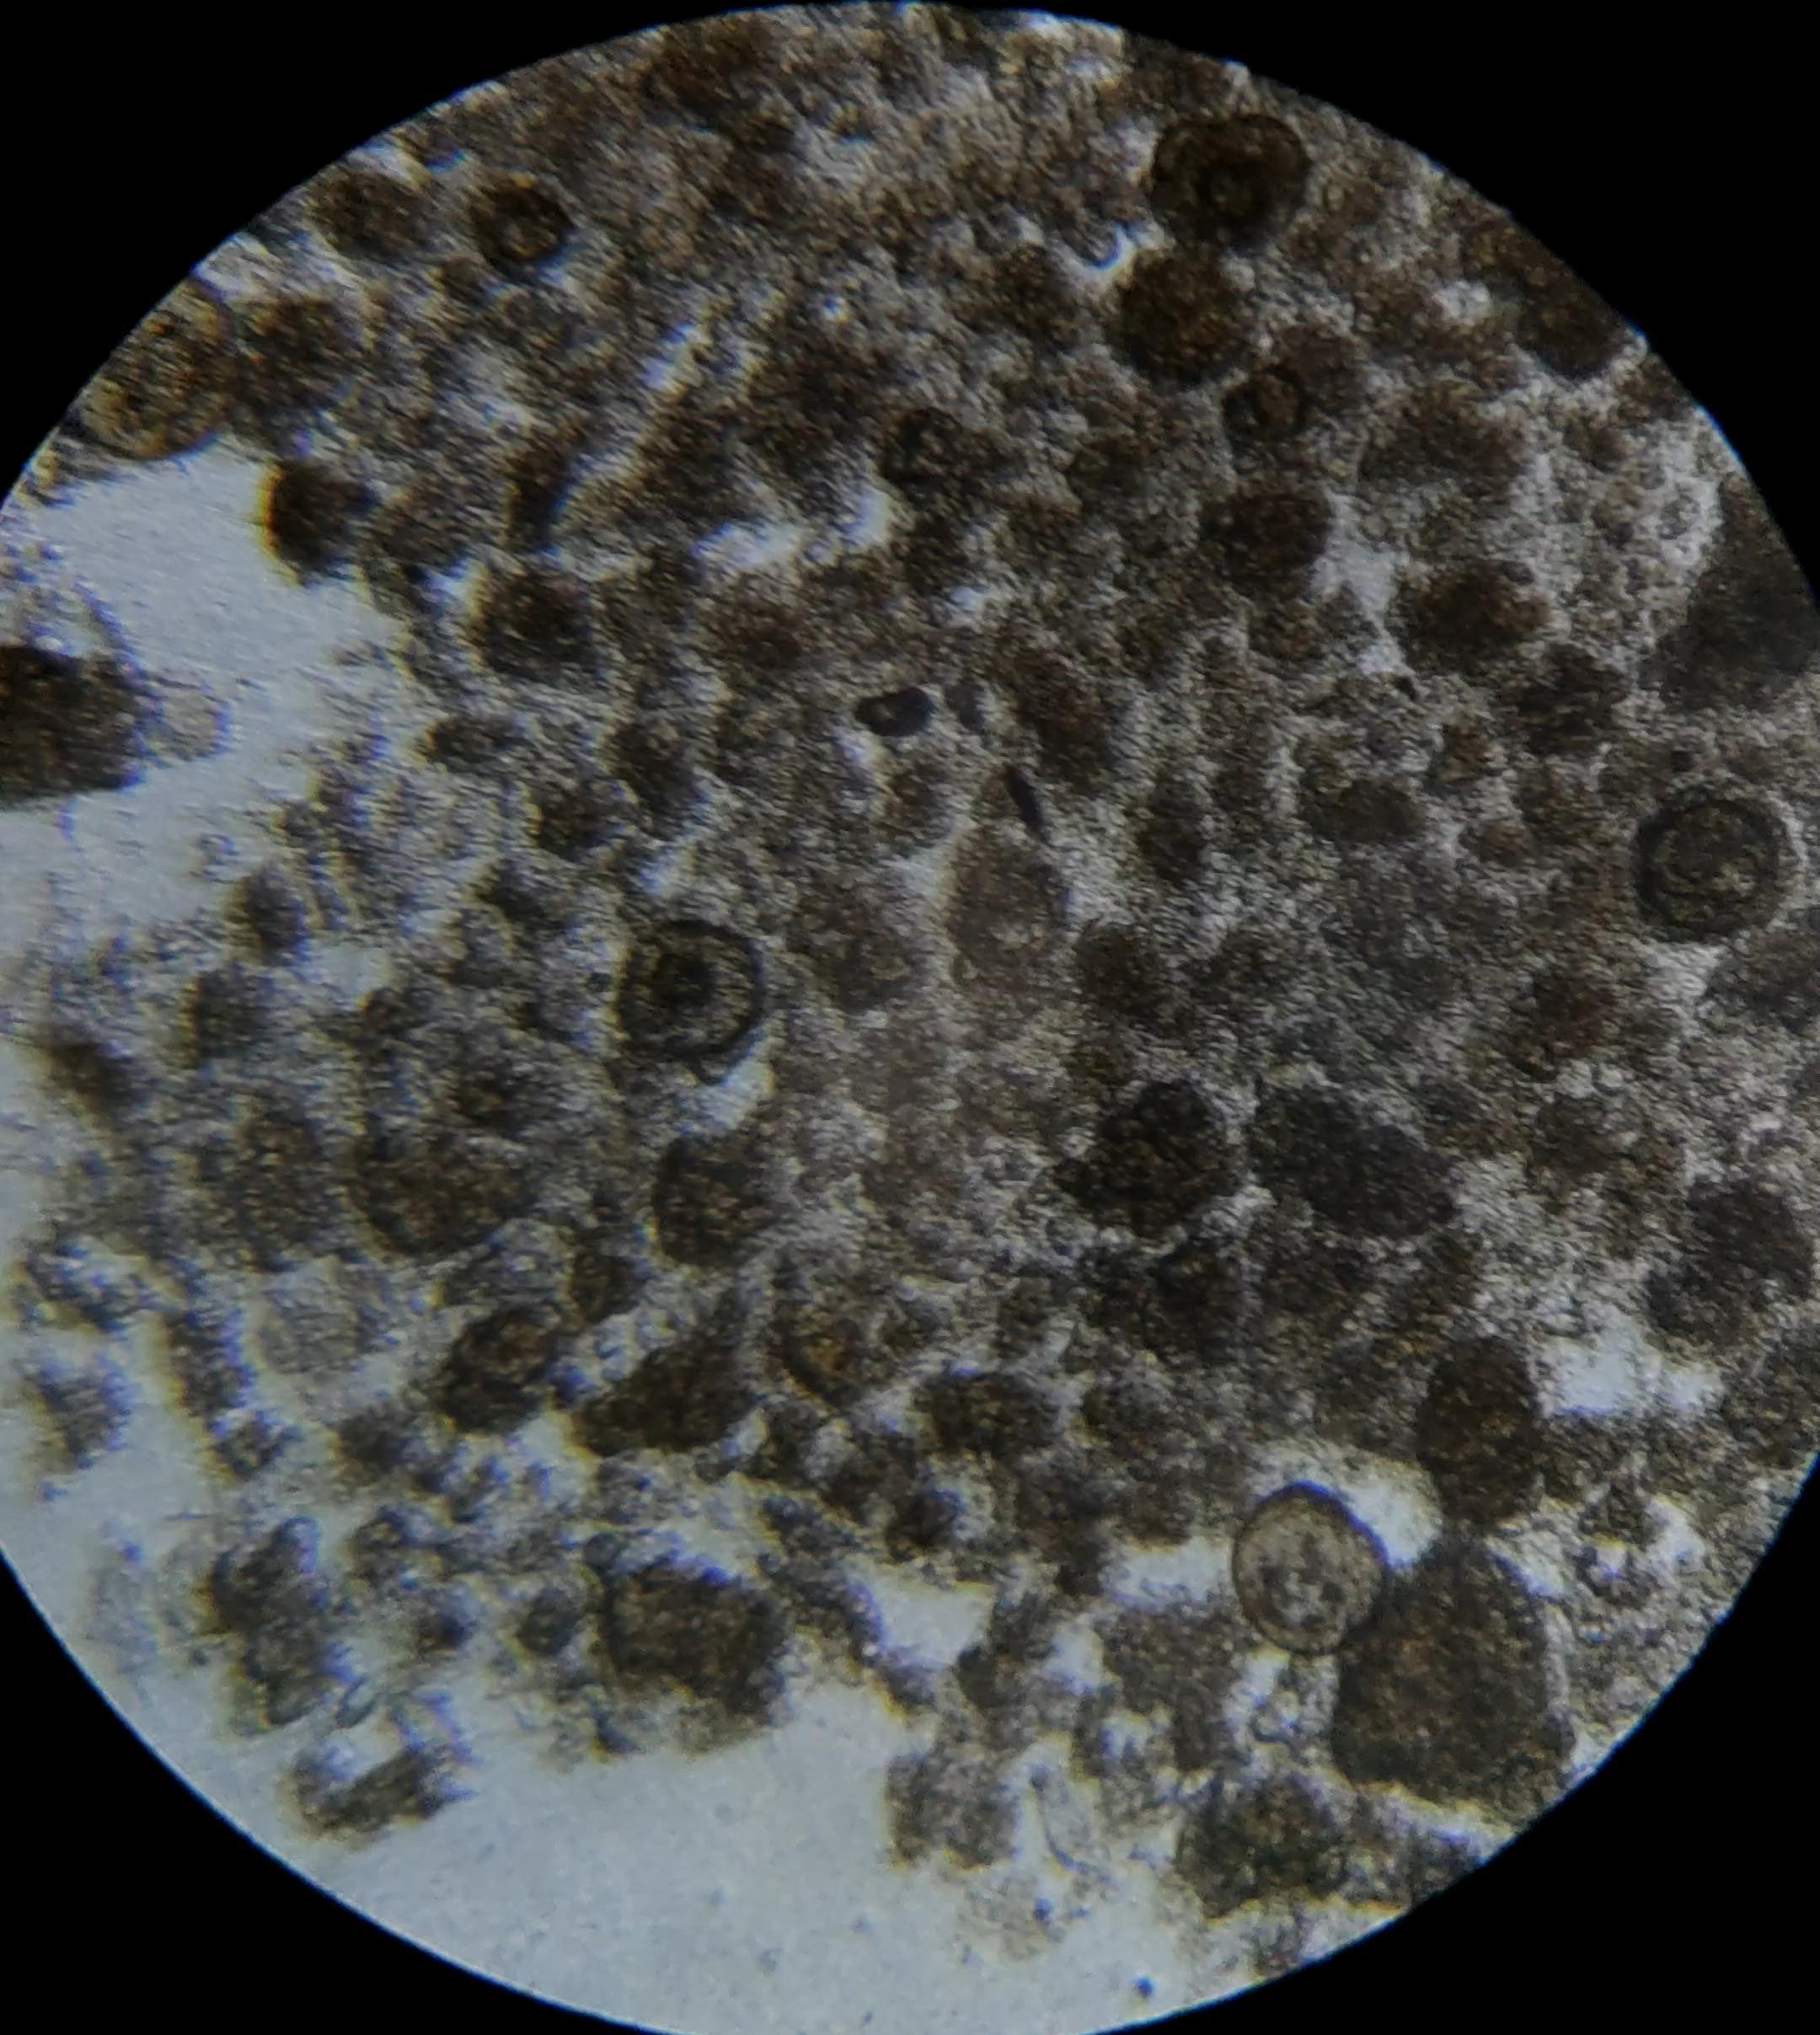Arcella: (60, 276, 239, 460), (1231, 1483, 1384, 1654), (1154, 114, 1305, 251), (620, 919, 757, 1056), (1643, 803, 1774, 931)
